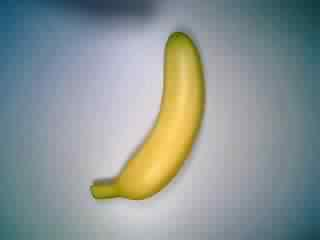banana: (89, 30, 205, 206)
